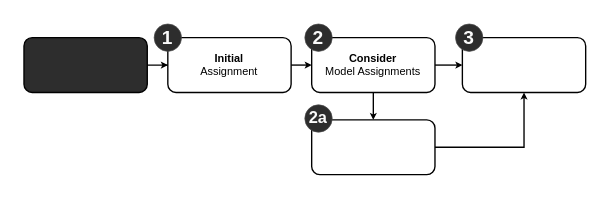
Image size: 610x199. Some labels were removed from this diagram. The shapes that lost their labels are listed below. From the top down, each one's box as (x1, y1, x2, y2) in pixels, then its label:
(23, 36, 147, 92): Physician
(461, 36, 586, 92): Submit Assignment
(310, 119, 435, 175): Revise Assignment (Optional)
